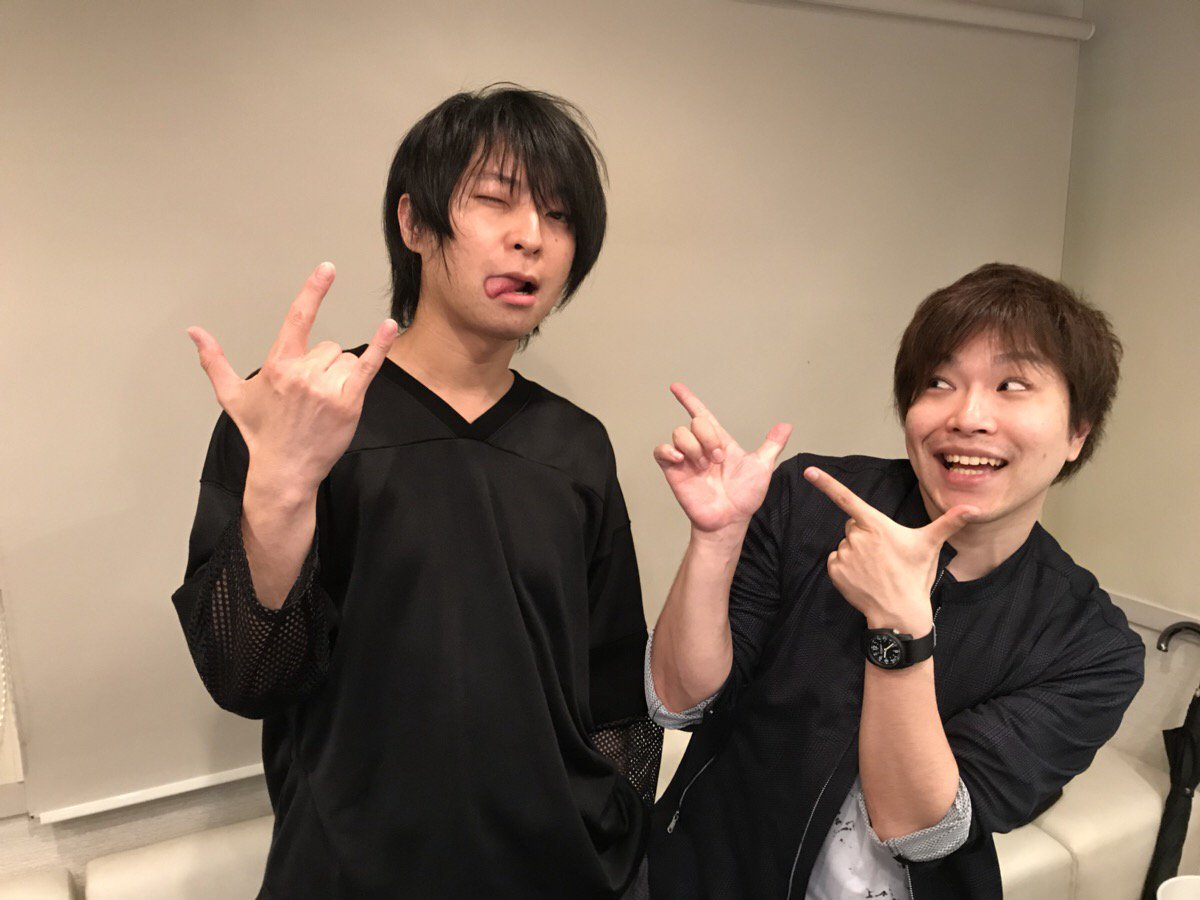face: (902, 318, 1090, 520), (396, 129, 578, 336)
hand: (187, 261, 395, 484), (805, 463, 983, 630), (650, 380, 793, 526)
